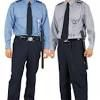uniform: (6, 1, 48, 96), (53, 2, 91, 93)
